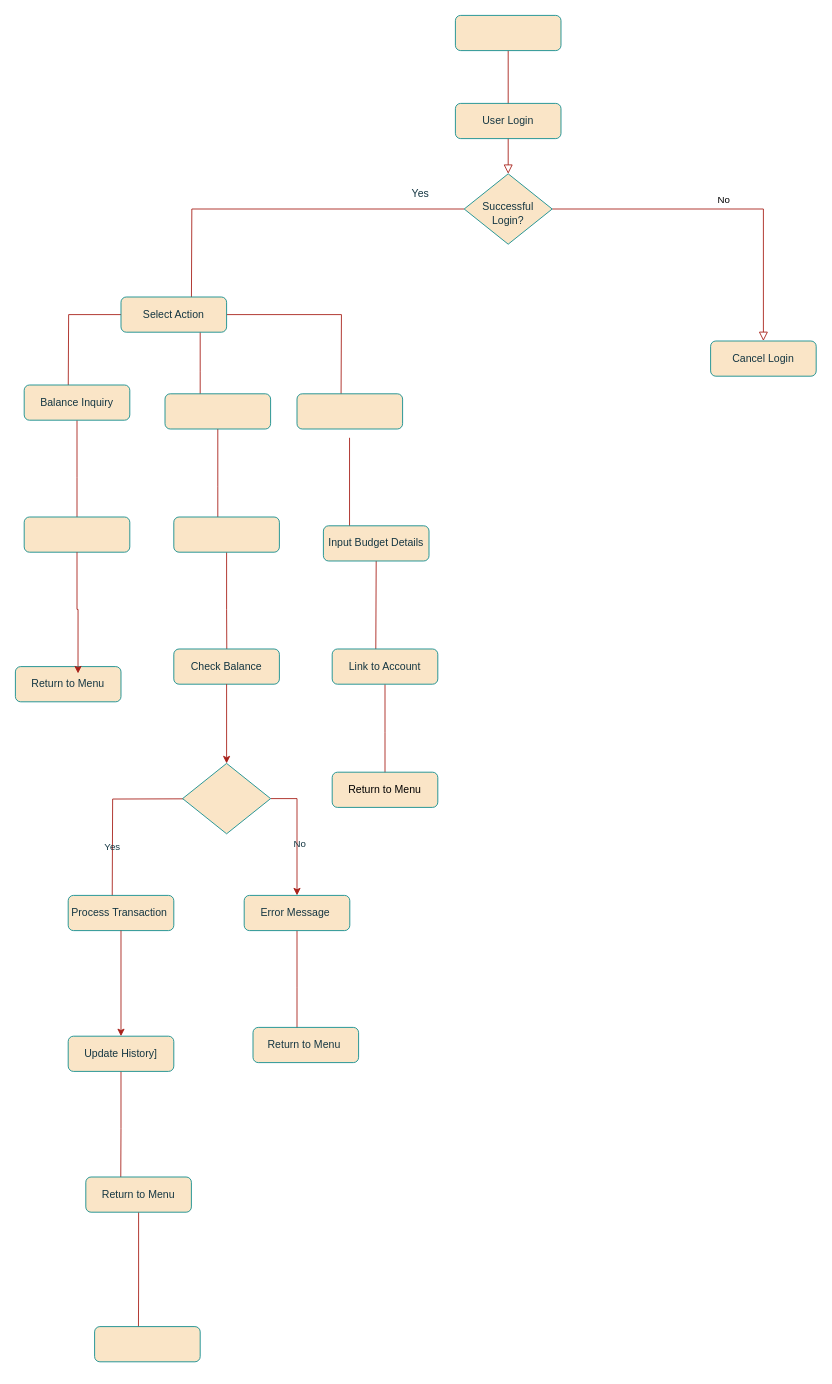
Image size: 832x1384. Some labels were removed from this diagram. Here are the shapes that lost their labels. From the top down, the centre of each, then its label:
[508,33]: Start
[217,411]: Money Transfer
[349,411]: Budget Creation
[76,534]: Display Balance
[226,534]: Enter Details
[226,798]: Sufficient?
[147,1344]: End
